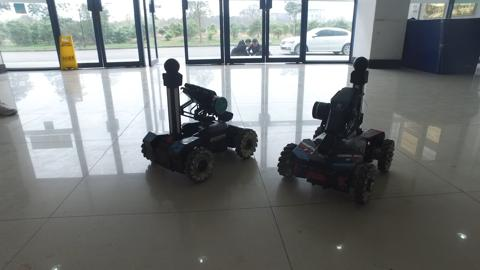chariot: (281, 51, 396, 210), (129, 60, 260, 185)
